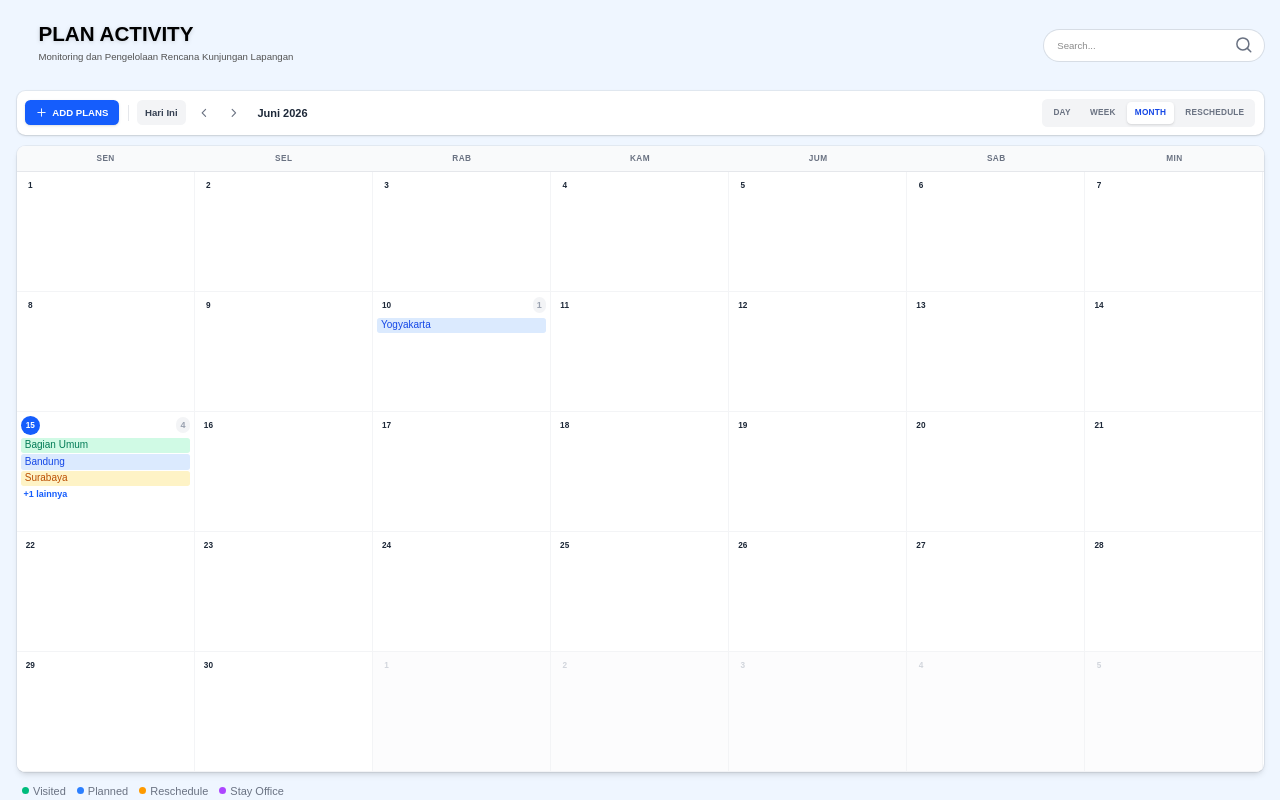
PlanActivityPage — Navigasi kalender › tombol Hari Ini mengembalikan kalender ke bulan berjalan
Click the 4th button: coordinates (234, 113) 222,100 -> 246,125
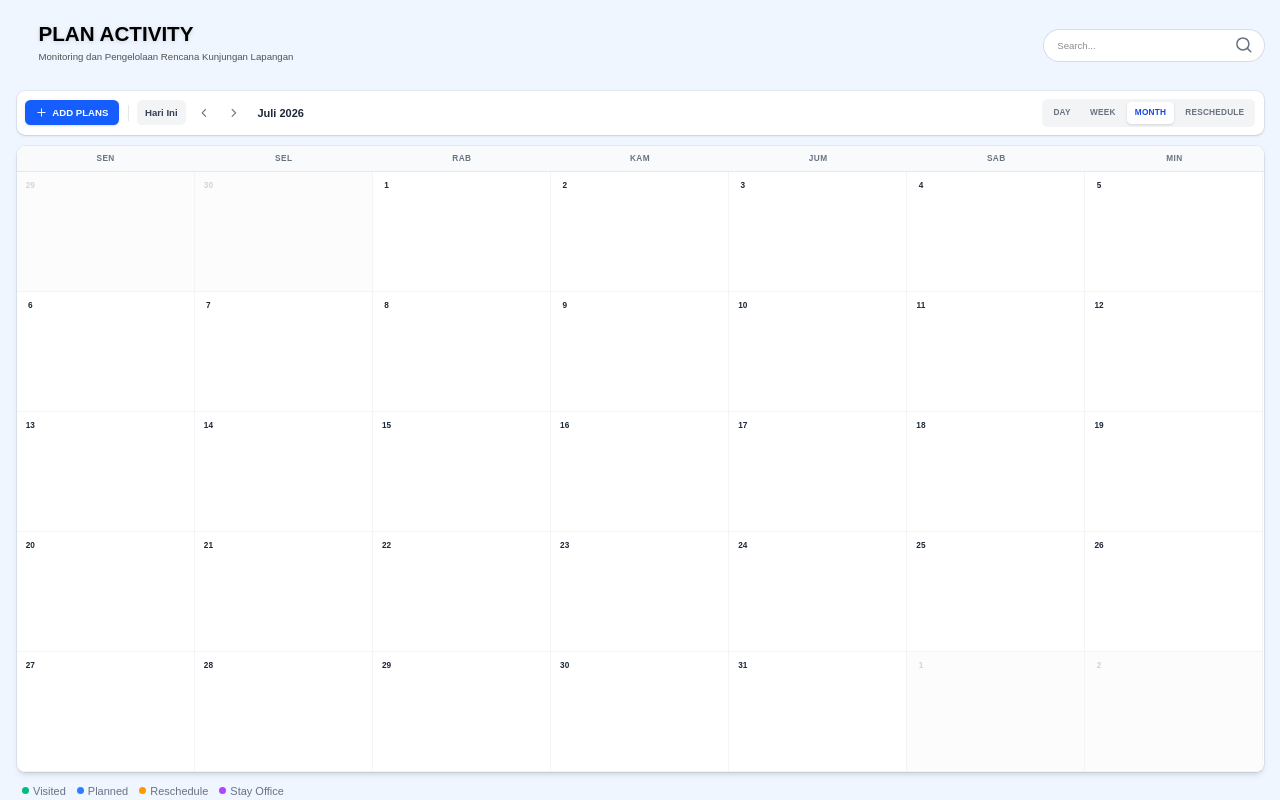
Now the heading "Juli 2026" is shown, box 257,104 -> 304,121
Click the button "Hari Ini": coordinates (161, 113) 137,100 -> 186,125
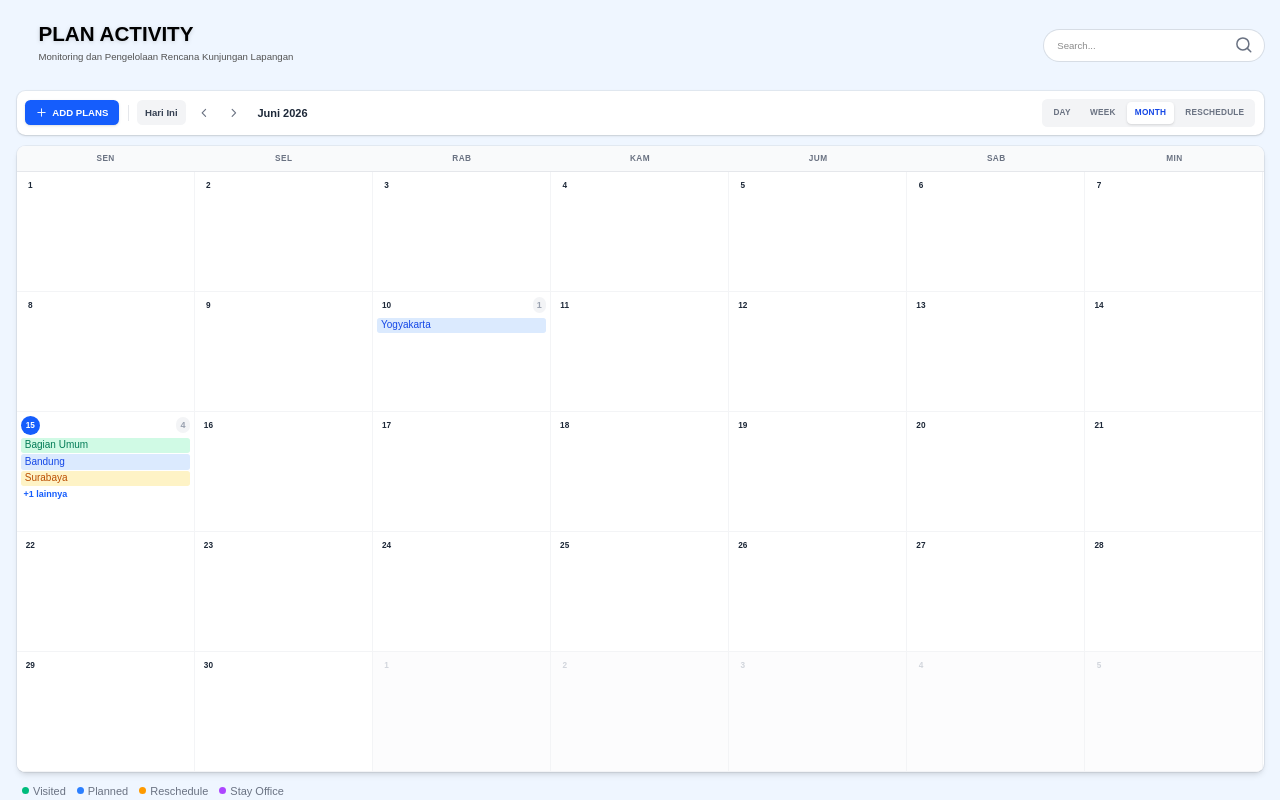
Now the heading "Juni 2026" is shown, box 257,104 -> 308,121
